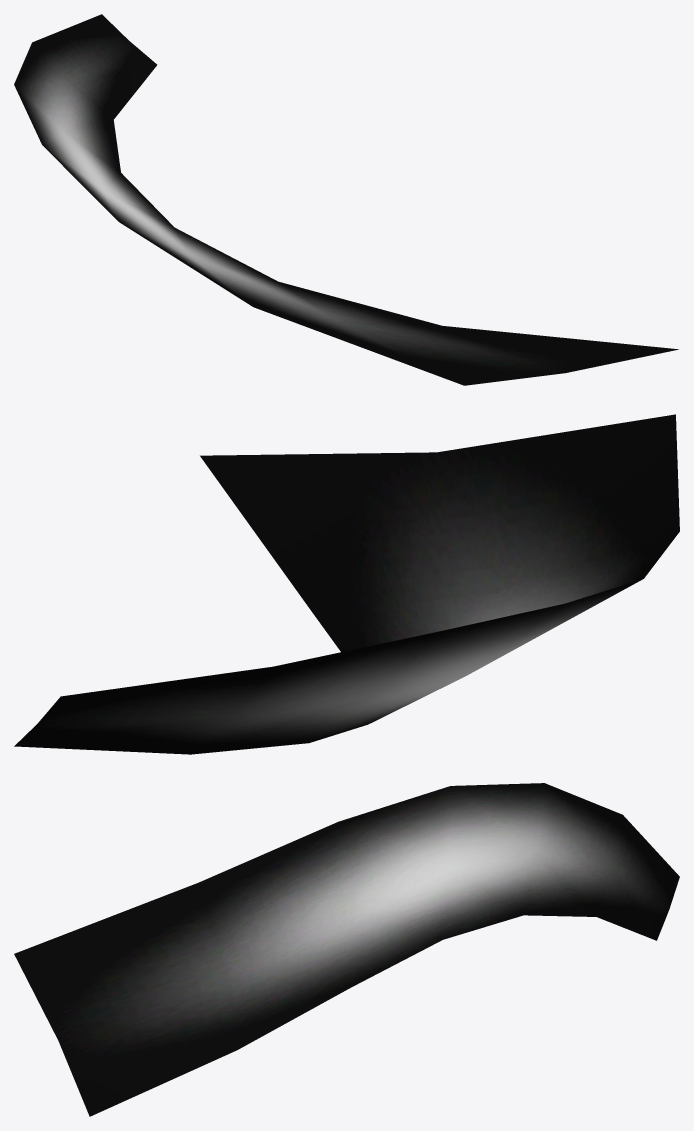
The model's file is vfx_kurp_0850.dae.
3 renders of one model, top to bottom at view 1: azimuth 30°, elevation 25°; view 2: azimuth 150°, elevation 25°; view 3: azimuth 270°, elevation 25°, orthographic. The views are drawn at different scales.
Visible parts, largest first — view 1: vfx_kurp_0850; view 2: vfx_kurp_0850; view 3: vfx_kurp_0850.
Part boxes in pixels (left/top/right/bottom): vfx_kurp_0850: left=14, top=14, right=678, bottom=385; vfx_kurp_0850: left=14, top=414, right=679, bottom=754; vfx_kurp_0850: left=14, top=783, right=679, bottom=1116.
Size of the model in its own units: 4.95 by 7.41 by 1.93.
1 material, 1 textured.
